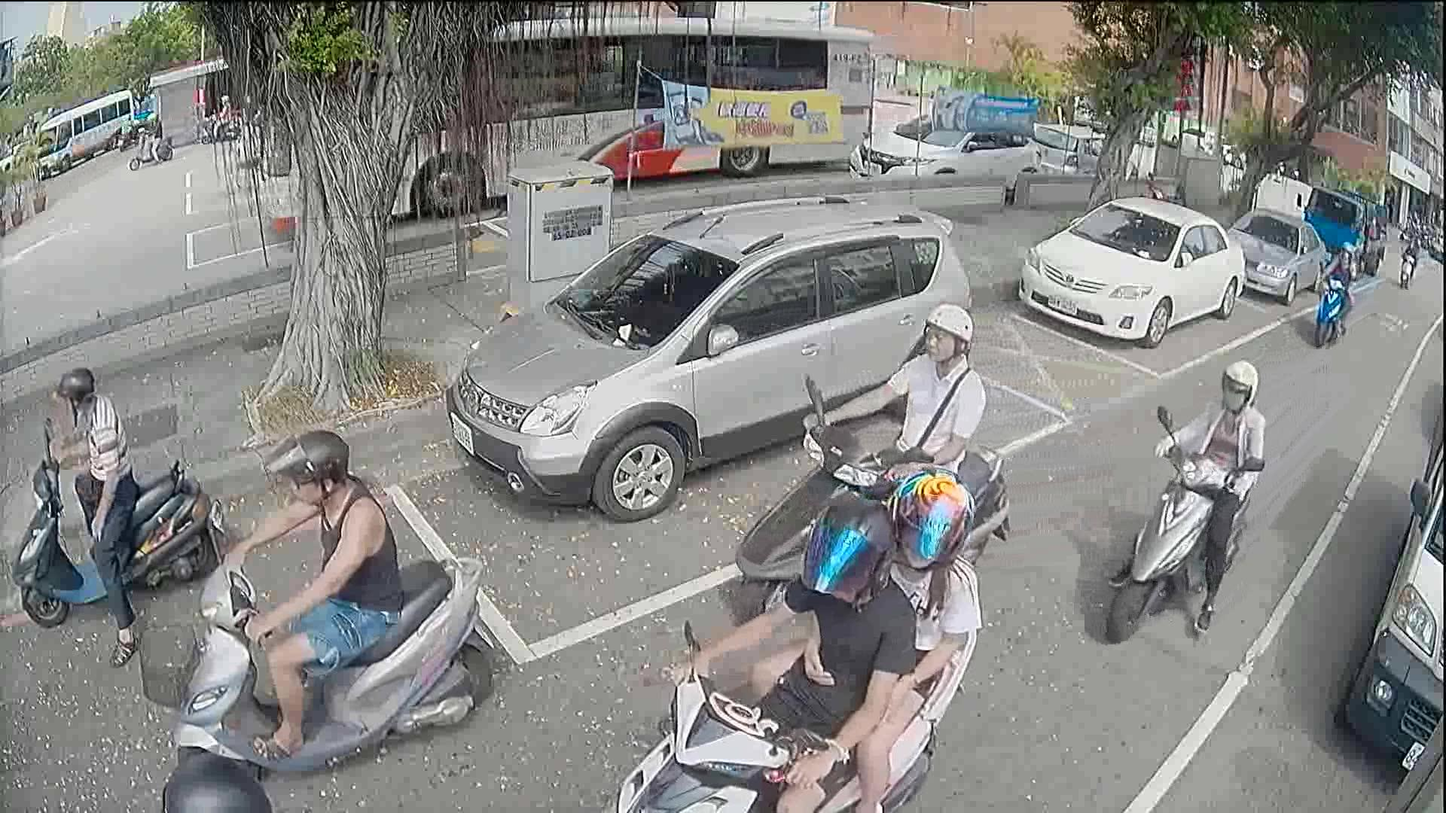person: (639, 474, 923, 812), (755, 448, 989, 812), (214, 423, 403, 769), (1090, 347, 1266, 647), (804, 298, 988, 512), (40, 361, 136, 664), (160, 741, 275, 811), (1315, 245, 1353, 339), (140, 112, 162, 162), (1402, 236, 1417, 272), (117, 111, 132, 140)
